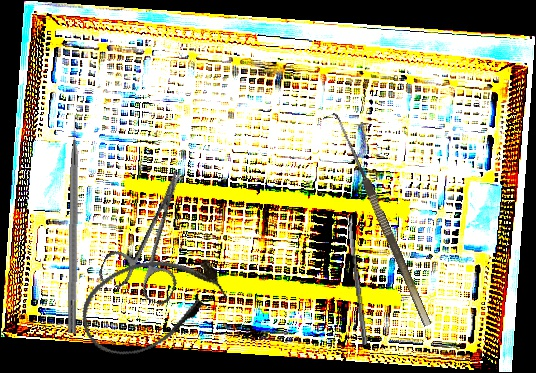Cannula: (68, 237, 236, 369)
Hook Surgical: (322, 110, 432, 332), (67, 115, 83, 334)
Iris Scissors: (96, 158, 216, 308)
Surgical Spoon: (346, 214, 369, 346)
